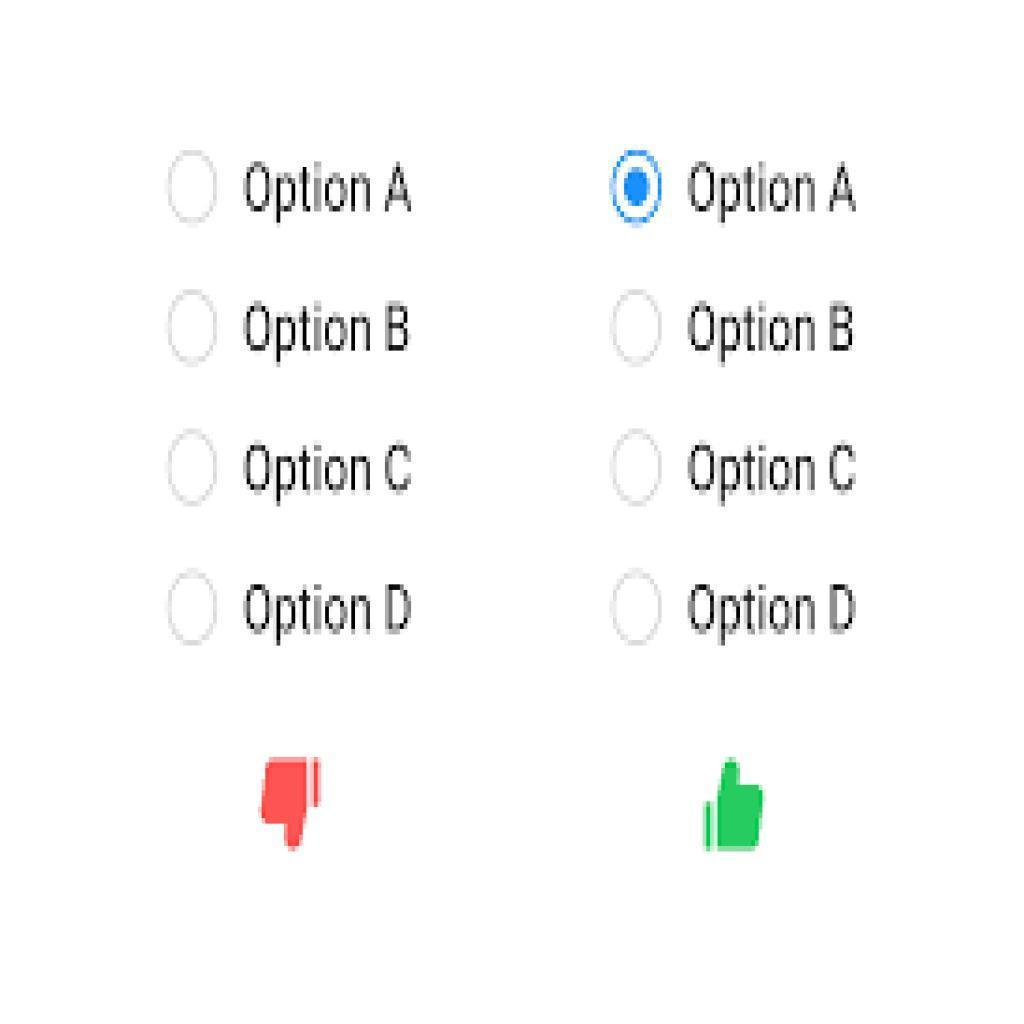label: (238, 292, 416, 373), (241, 152, 418, 229), (685, 154, 862, 229), (238, 434, 416, 508), (240, 574, 415, 648), (687, 297, 862, 369), (685, 438, 860, 510), (685, 577, 861, 646)
radio: (609, 146, 665, 228), (165, 427, 221, 509), (611, 287, 666, 370), (166, 146, 220, 230), (165, 288, 220, 369), (610, 427, 664, 509), (164, 571, 221, 647), (610, 571, 665, 648)
